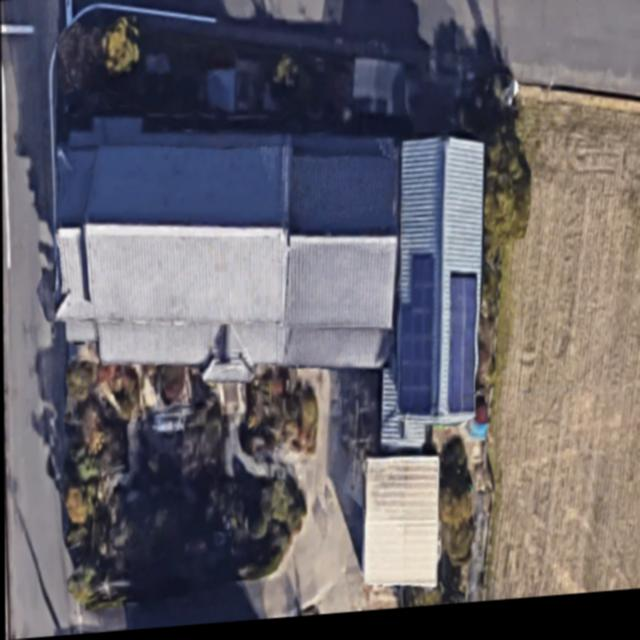Batiment: (56, 118, 399, 372), (396, 143, 483, 432), (361, 461, 437, 593)
